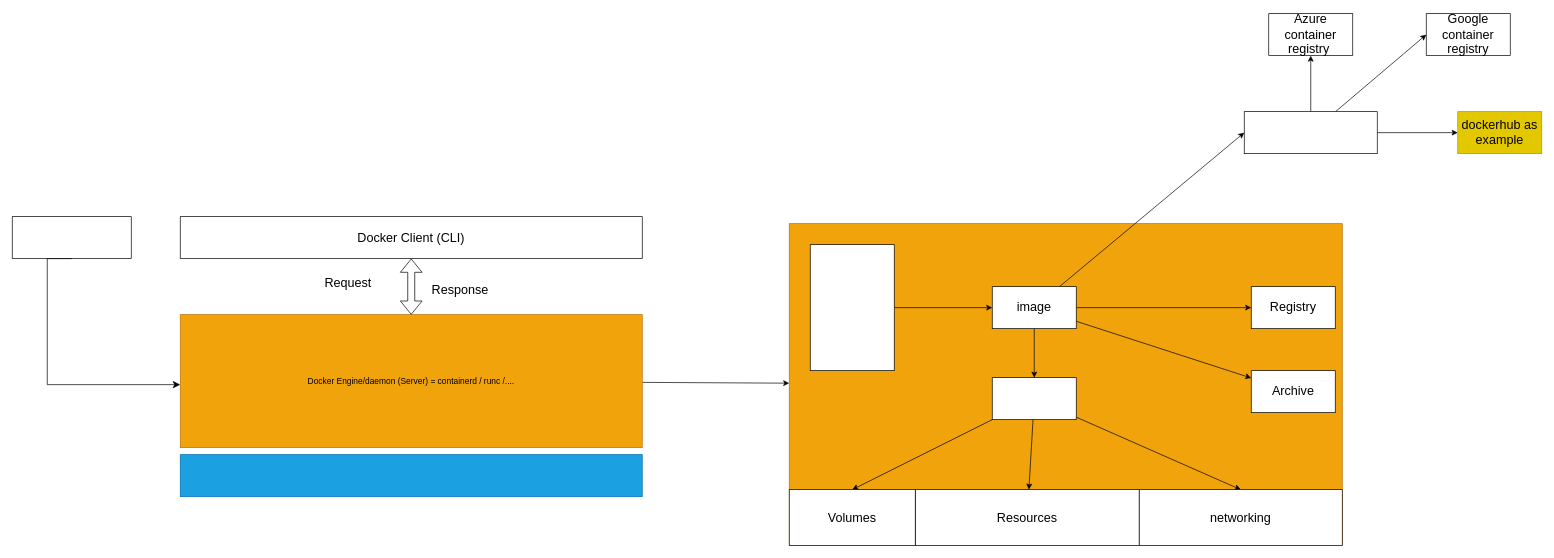
This 1554x558 diagram has some shape labels left out. Each missing label, with the centre of its shape:
container: pixel 1034 398
docker client API: pixel 71 237
Dockerfile: pixel 852 307
Operating System: pixel 411 475
Public Registry: pixel 1310 132
